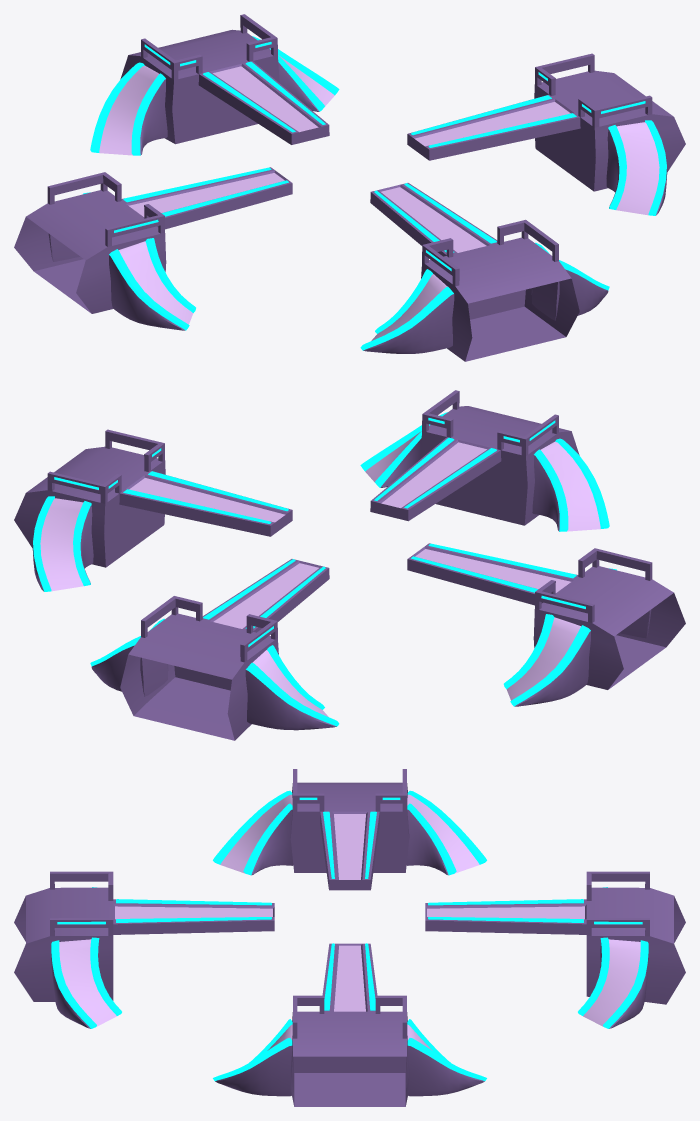
File: Escenarios (1).fbx
3 renders of one model, top to bottom at view 1: azimuth 30°, elevation 25°; view 2: azimuth 150°, elevation 25°; view 3: azimuth 270°, elevation 25°, orthographic. The views are drawn at different scales.
Visible parts, largest first — view 1: Escenarios; view 2: Escenarios; view 3: Escenarios.
Part boxes in pixels (bbox=[...]): Escenarios: bbox=[14, 14, 685, 361]; Escenarios: bbox=[14, 390, 685, 740]; Escenarios: bbox=[14, 769, 685, 1106].
Bounding box in the file's own units: 33094 × 4642 × 33094.
